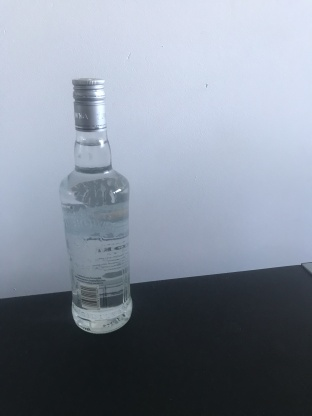nakretka: (70, 77, 108, 133)
